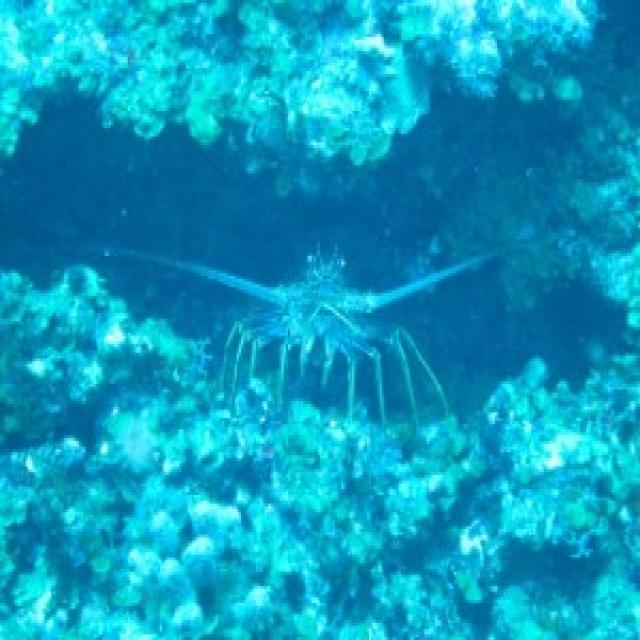lobsters: (77, 242, 565, 457)
